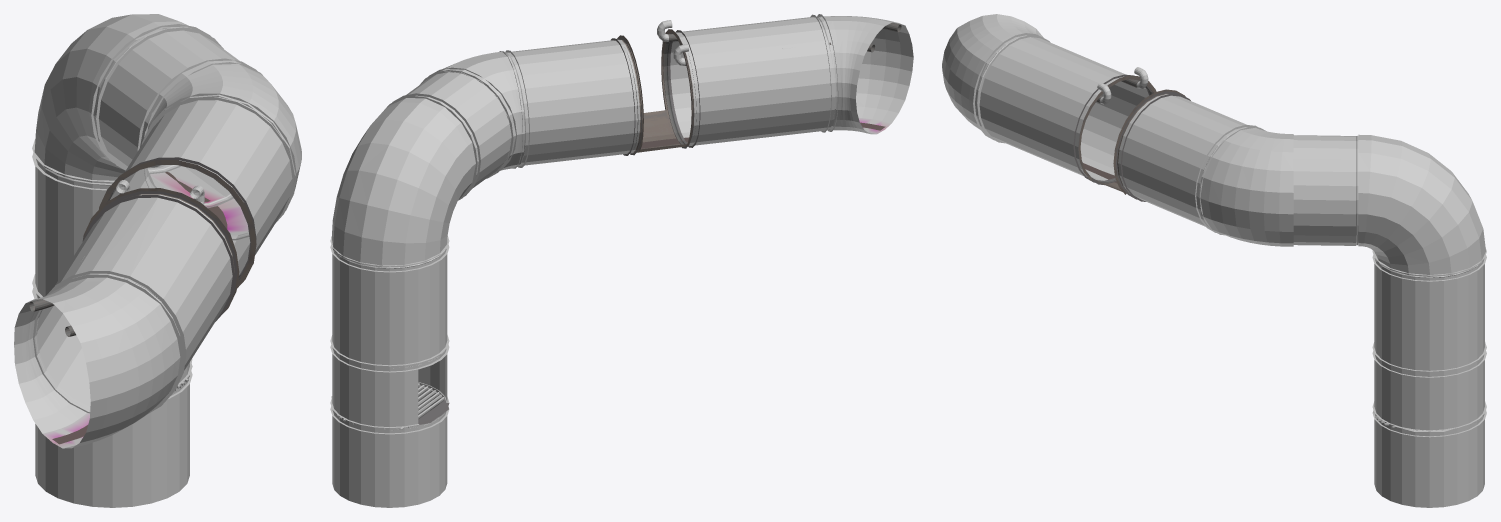
Rendered from AreaJ_Pipe_Inside_Aa.fbx.
3 views of the same model, side by side, from view 1: azimuth 30°, elevation 25°; view 2: azimuth 150°, elevation 25°; view 3: azimuth 270°, elevation 25° (orthographic). The views are drawn at different scales.
Visible parts, largest first — view 1: SM_ENV_AMVLLG02_AreaJ_Pipe_Inside_Aa.mo; view 2: SM_ENV_AMVLLG02_AreaJ_Pipe_Inside_Aa.mo; view 3: SM_ENV_AMVLLG02_AreaJ_Pipe_Inside_Aa.mo.
Part boxes in pixels (x1,y1,x2,y2): SM_ENV_AMVLLG02_AreaJ_Pipe_Inside_Aa.mo: (14,14,301,507); SM_ENV_AMVLLG02_AreaJ_Pipe_Inside_Aa.mo: (330,14,913,507); SM_ENV_AMVLLG02_AreaJ_Pipe_Inside_Aa.mo: (942,14,1486,507).
Size of the model in its own units: 5071 by 5470 by 7714.
